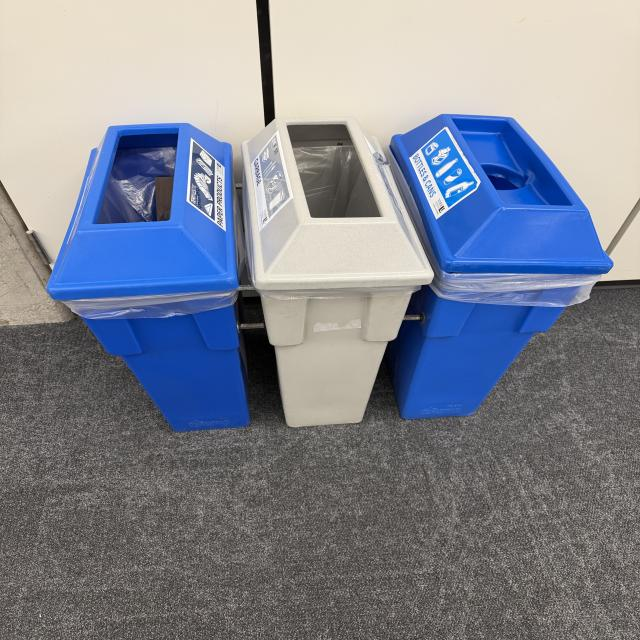Dustbin: (44, 116, 614, 436)
